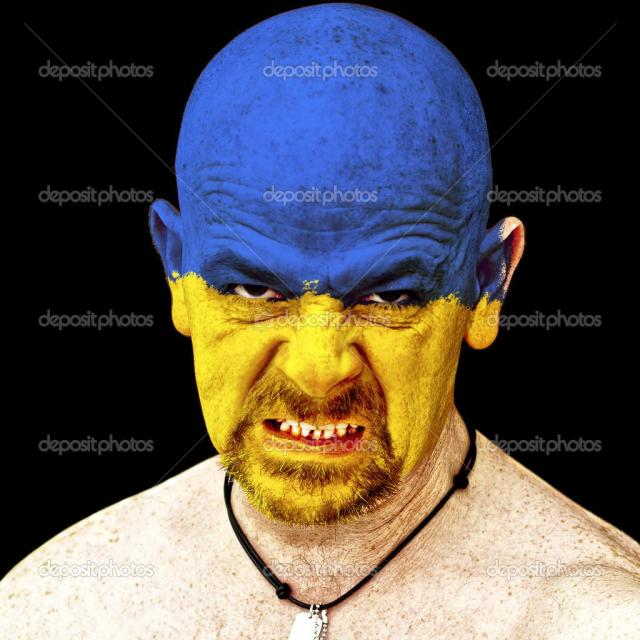nomask: (182, 115, 473, 523)
